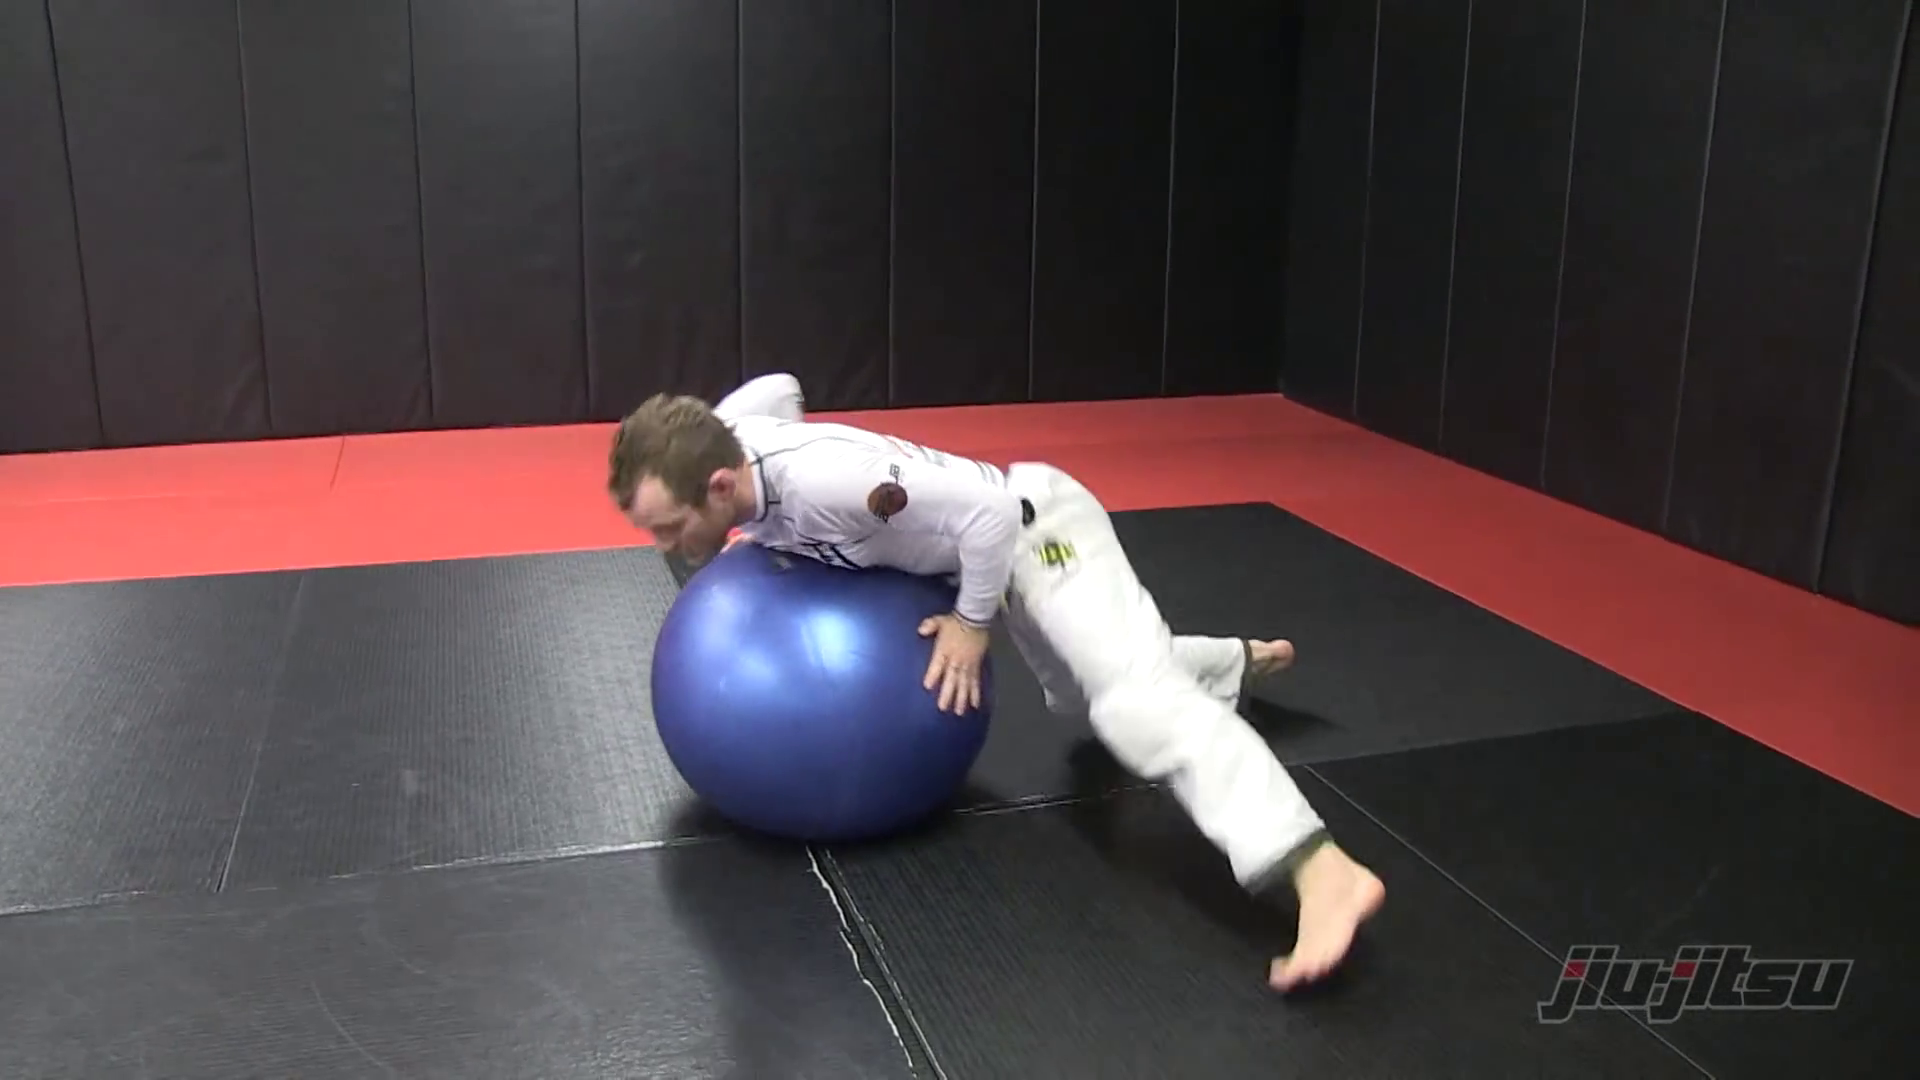yogaball: (630, 535, 1027, 865)
